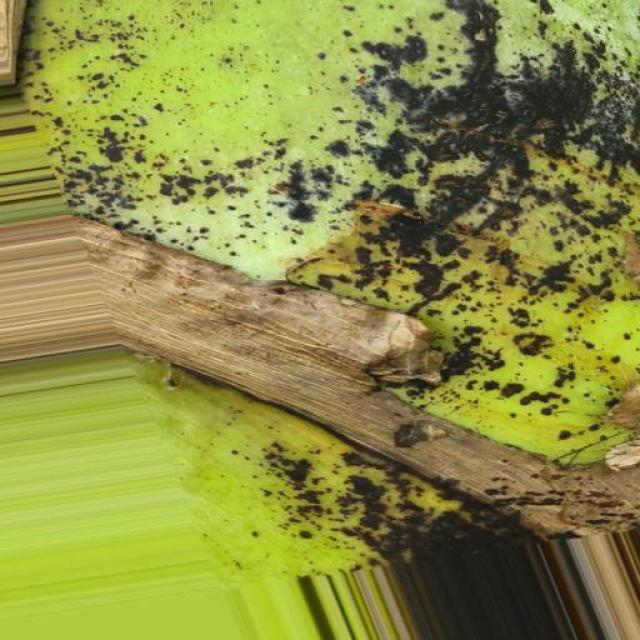Anthracnose: (24, 0, 640, 566)
